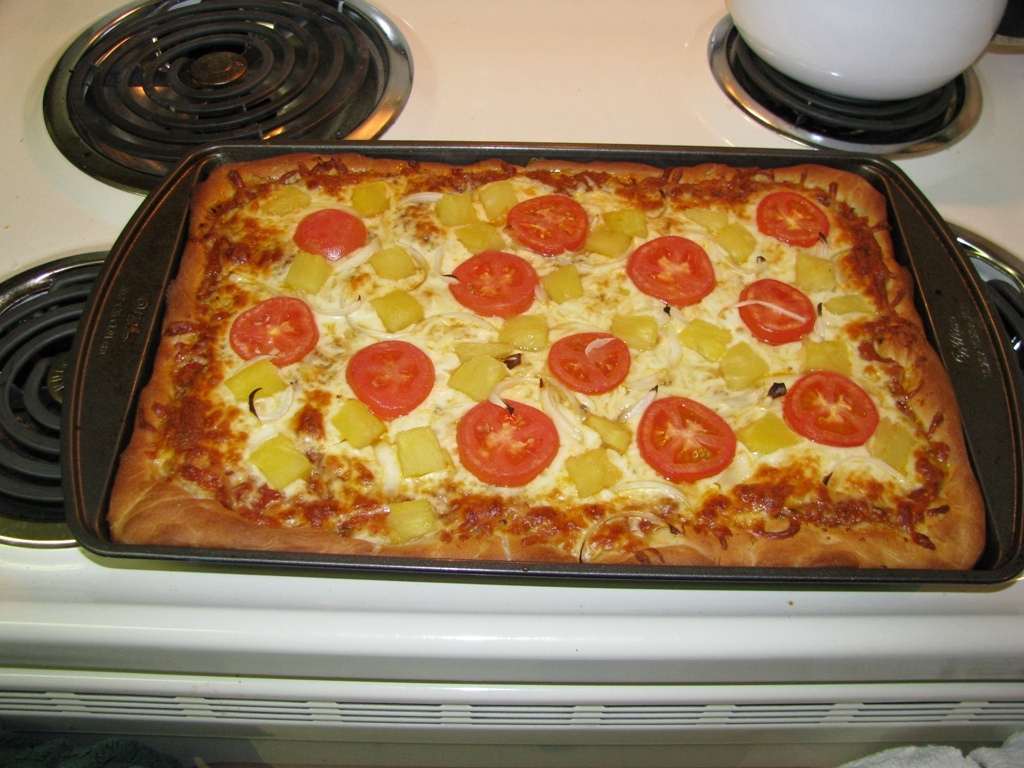Pizza: (99, 166, 997, 567)
